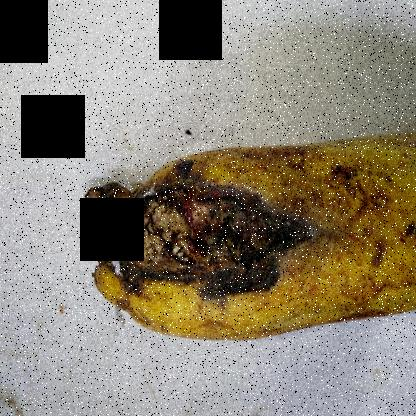ripe: (103, 114, 415, 350)
rotten: (74, 140, 308, 304)
